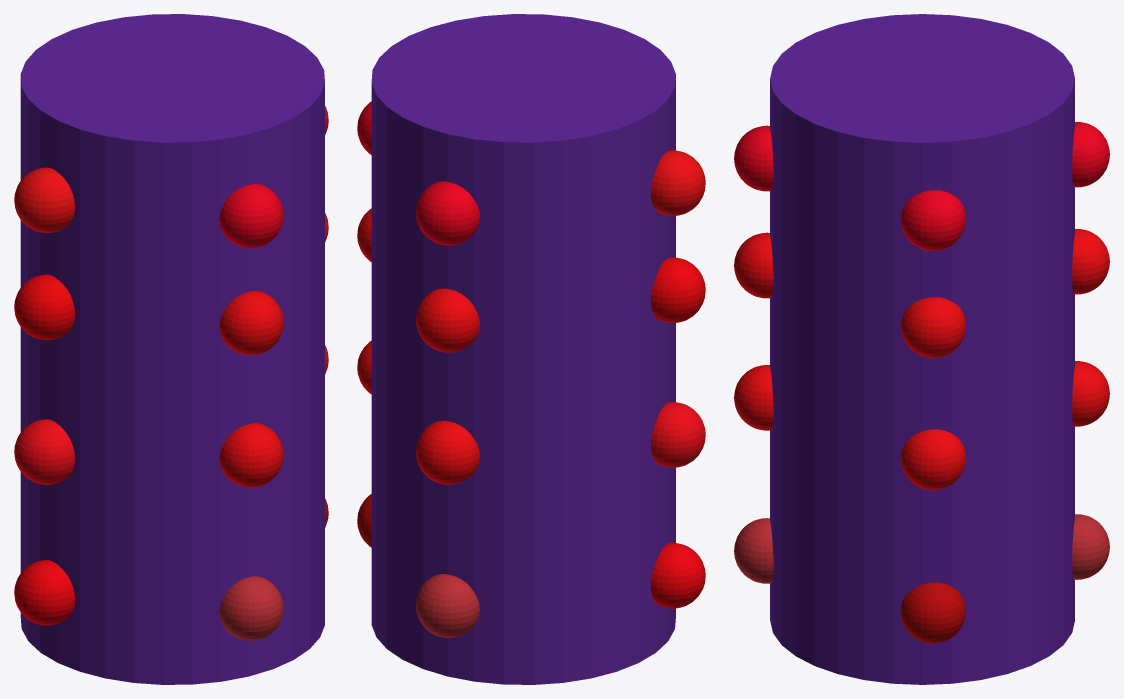
File: donmedolab.fbx
3 renders of one model, left to right at view 1: azimuth 30°, elevation 25°; view 2: azimuth 150°, elevation 25°; view 3: azimuth 270°, elevation 25°, orthographic.
Parts seen in each view (by area): view 1: Cylinder, Sphere.003, Sphere.017, Sphere.002, Sphere.001, Sphere.006, Sphere.005, Sphere.007, Sphere.008; view 2: Cylinder, Sphere.012, Sphere.013, Sphere.014, Sphere.015, Sphere.005, Sphere.006, Sphere.008, Sphere.007, Sphere.009, Sphere.010, Sphere.004 (+1 smaller); view 3: Cylinder, Sphere.004, Sphere.009, Sphere.010, Sphere.011, Sphere.001, Sphere.002, Sphere.017, Sphere.003, Sphere.013, Sphere.012, Sphere.015 (+1 smaller).
Part boxes in pixels (bbox=[...]): Cylinder: bbox=[20, 14, 324, 684]; Sphere.003: bbox=[219, 576, 283, 640]; Sphere.017: bbox=[219, 423, 283, 487]; Sphere.002: bbox=[219, 291, 283, 355]; Sphere.001: bbox=[219, 184, 283, 248]; Sphere.006: bbox=[14, 560, 74, 625]; Sphere.005: bbox=[14, 419, 74, 484]; Sphere.007: bbox=[14, 274, 74, 340]; Sphere.008: bbox=[14, 167, 74, 233]; Cylinder: bbox=[371, 14, 675, 684]; Sphere.012: bbox=[416, 181, 479, 245]; Sphere.013: bbox=[416, 288, 479, 352]; Sphere.014: bbox=[416, 574, 479, 638]; Sphere.015: bbox=[416, 420, 479, 484]; Sphere.005: bbox=[650, 402, 705, 467]; Sphere.006: bbox=[650, 543, 705, 608]; Sphere.008: bbox=[650, 150, 705, 215]; Sphere.007: bbox=[650, 257, 705, 322]; Sphere.009: bbox=[357, 494, 371, 547]; Sphere.010: bbox=[357, 208, 371, 261]; Sphere.004: bbox=[357, 340, 371, 394]; Cylinder: bbox=[770, 14, 1074, 684]; Sphere.004: bbox=[900, 429, 965, 490]; Sphere.009: bbox=[900, 582, 965, 643]; Sphere.010: bbox=[900, 297, 965, 358]; Sphere.011: bbox=[900, 190, 965, 251]; Sphere.001: bbox=[734, 125, 773, 191]; Sphere.002: bbox=[734, 232, 773, 298]; Sphere.017: bbox=[734, 365, 773, 430]; Sphere.003: bbox=[734, 518, 773, 583]; Sphere.013: bbox=[1072, 229, 1109, 294]; Sphere.012: bbox=[1072, 121, 1109, 187]; Sphere.015: bbox=[1072, 361, 1109, 426].
Size of the model in its own units: 244 by 392 by 247.
